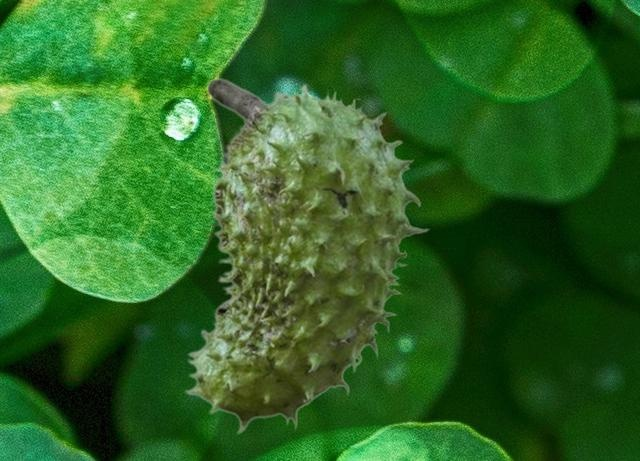guyabano: (183, 77, 429, 434)
